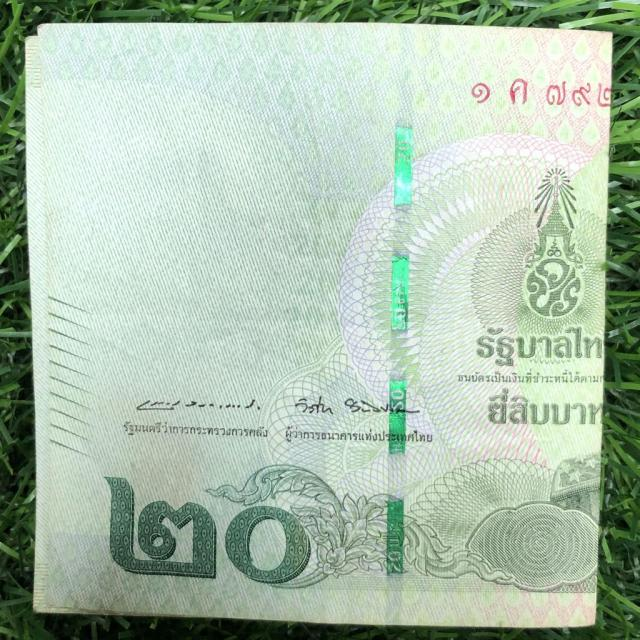THAI20: (24, 22, 614, 632)
